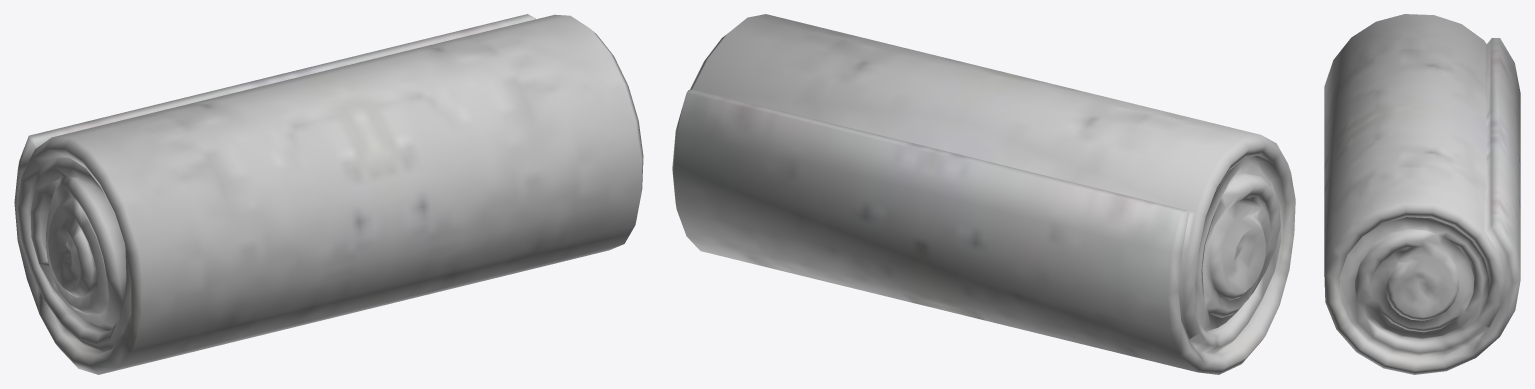
Rendered from bandage_junk.glb.
The picture shows the model from 3 angles, left to right: view 1: azimuth 30°, elevation 25°; view 2: azimuth 150°, elevation 25°; view 3: azimuth 270°, elevation 25°; orthographic projection. The views are drawn at different scales.
Parts seen in each view (by area): view 1: bandages_LOD0; view 2: bandages_LOD0; view 3: bandages_LOD0.
Part boxes in pixels (x1=…): bandages_LOD0: x1=14, y1=14, x2=643, y2=374; bandages_LOD0: x1=672, y1=14, x2=1295, y2=374; bandages_LOD0: x1=1324, y1=14, x2=1520, y2=374.
Bounding box in the file's own units: 0.2264 × 0.0899 × 0.0934.
1 material, 1 textured.
